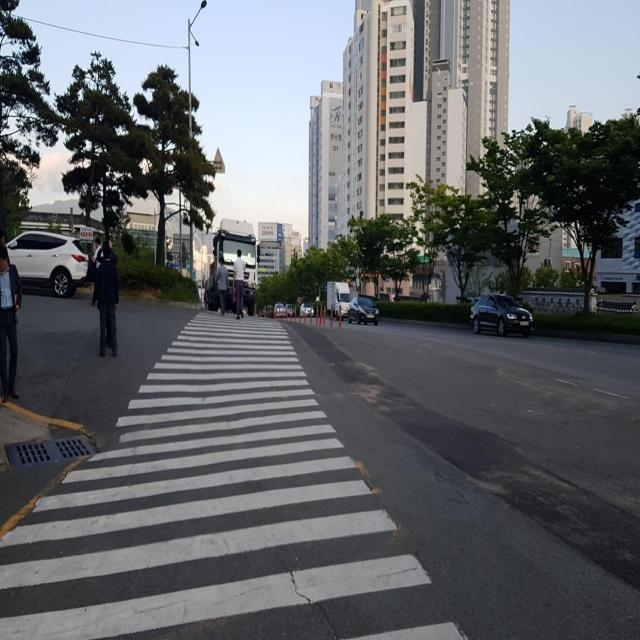횡단보도: (0, 310, 466, 640)
